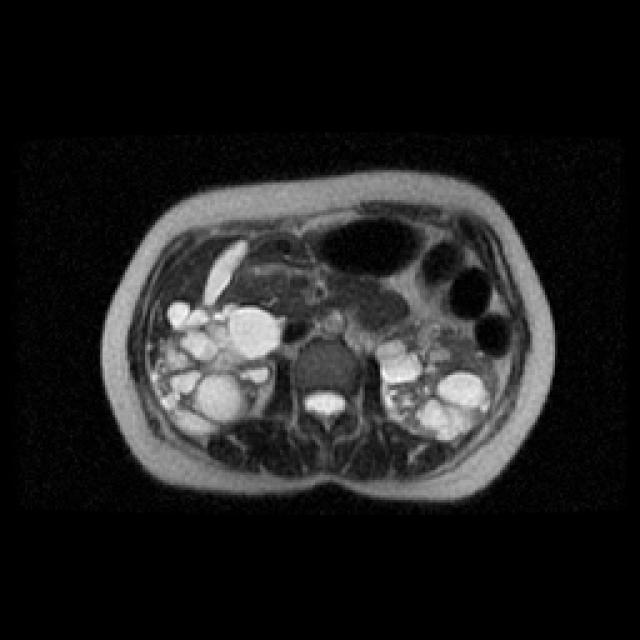sag: (156, 301, 281, 436)
sol: (374, 318, 497, 439)
